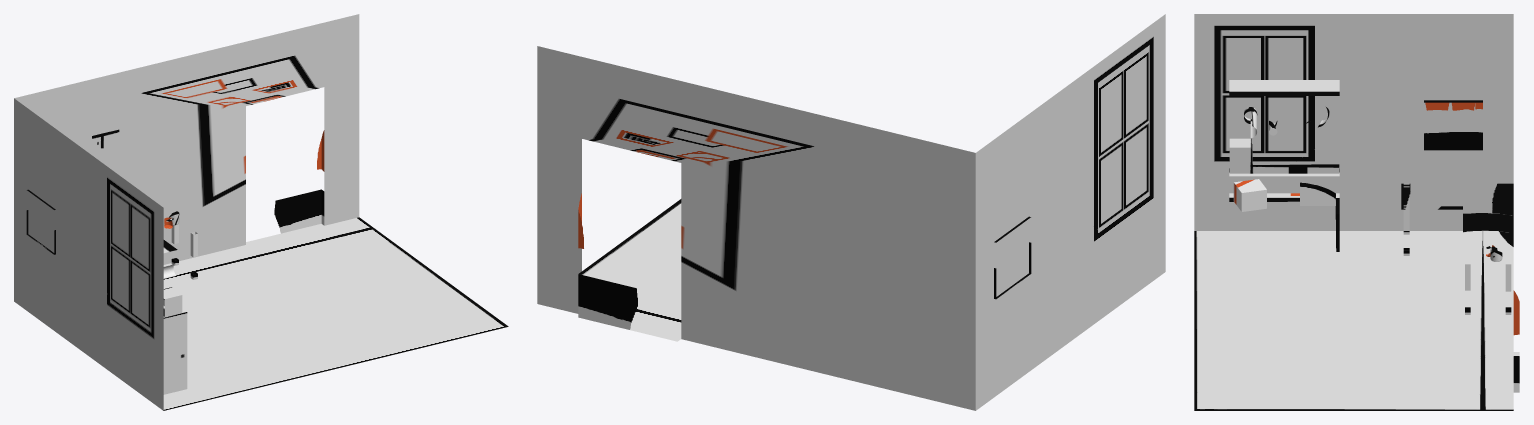
The model's file is office3.fbx.
The picture shows the model from 3 angles, left to right: view 1: azimuth 30°, elevation 25°; view 2: azimuth 150°, elevation 25°; view 3: azimuth 270°, elevation 25°; orthographic projection. The views are drawn at different scales.
Parts seen in each view (by area): view 1: Cube.001; view 2: Cube.001; view 3: Cube.001.
Part boxes in pixels (<box>): Cube.001: <box>14,14,508,410</box>; Cube.001: <box>537,14,1165,410</box>; Cube.001: <box>1194,14,1519,410</box>.
Size of the model in its own units: 3217 by 1800 by 2446.
1 material, 1 textured.
